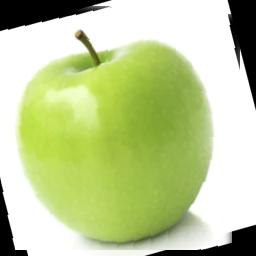Apple Fresh: (0, 0, 242, 250)
